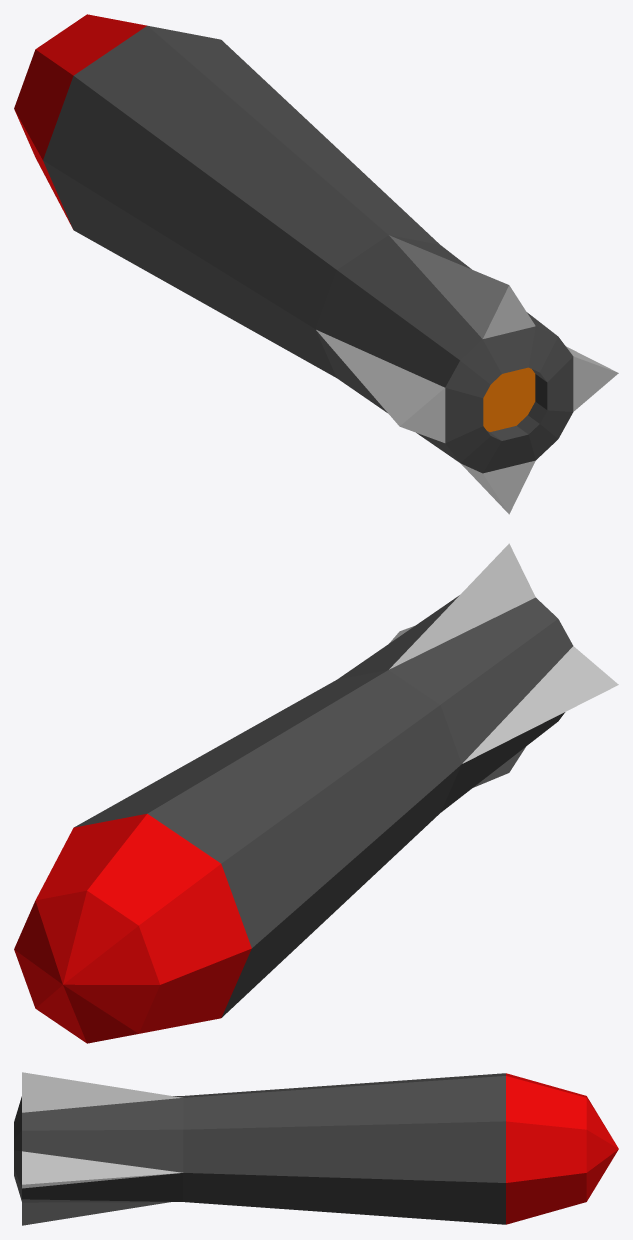
The model's file is rocket.glb.
The picture shows the model from 3 angles, top to bottom: view 1: azimuth 30°, elevation 25°; view 2: azimuth 150°, elevation 25°; view 3: azimuth 270°, elevation 25°; orthographic projection. The views are drawn at different scales.
Visible parts, largest first — view 1: Cylinder.005; view 2: Cylinder.005; view 3: Cylinder.005.
Part boxes in pixels (x1=…): Cylinder.005: x1=14, y1=14, x2=618, y2=514; Cylinder.005: x1=14, y1=543, x2=618, y2=1043; Cylinder.005: x1=14, y1=1072, x2=618, y2=1225.
Size of the model in its own units: 2.1 by 2.1 by 7.5.
